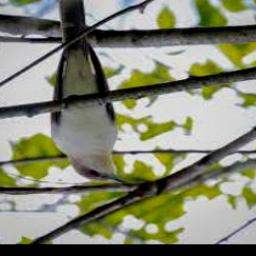Cuckoo: (52, 0, 129, 183)
